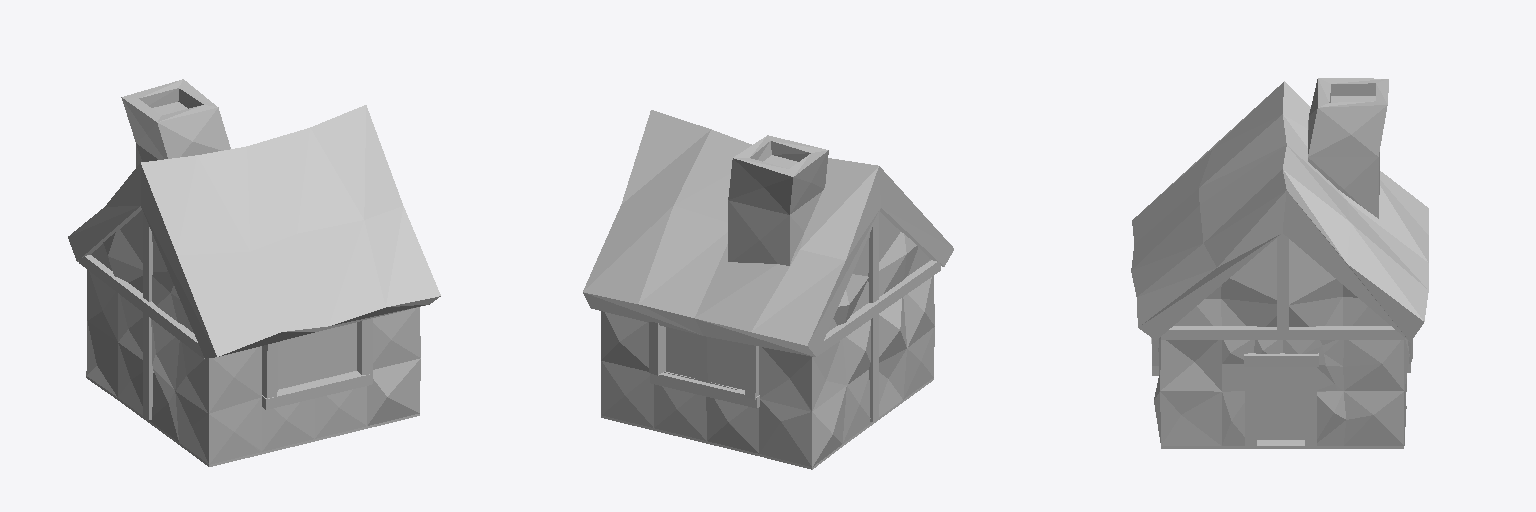
File: settlement.obj
The picture shows the model from 3 angles: view 1: azimuth 30°, elevation 25°; view 2: azimuth 150°, elevation 25°; view 3: azimuth 270°, elevation 25°; orthographic projection.
Visible parts, largest first — view 1: WhiteCombined_Cube.055; view 2: WhiteCombined_Cube.055; view 3: WhiteCombined_Cube.055.
Boxes of the visible parts, <box> form: WhiteCombined_Cube.055: <box>68,79,440,466</box>; WhiteCombined_Cube.055: <box>583,110,953,469</box>; WhiteCombined_Cube.055: <box>1131,78,1428,448</box>.
Size of the model in its own units: 0.5507 by 0.6434 by 0.6115.